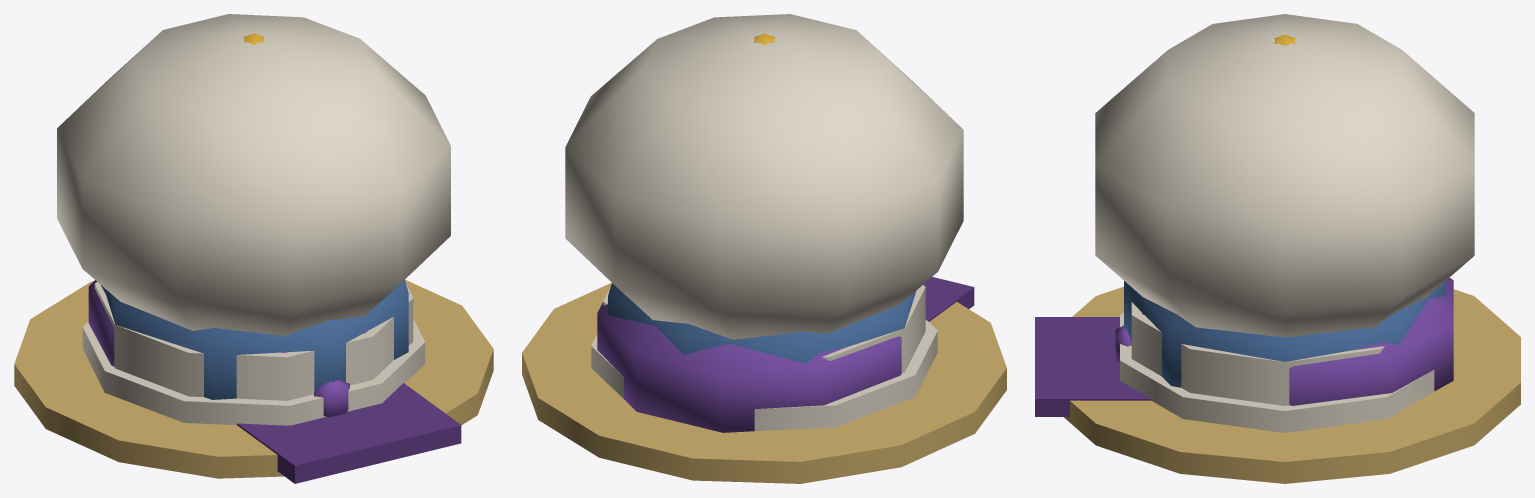
Rendered from hats.glb.
3 views of the same model, side by side, from view 1: azimuth 30°, elevation 25°; view 2: azimuth 150°, elevation 25°; view 3: azimuth 270°, elevation 25° (orthographic).
Visible parts, largest first — view 1: hat_chef, hat_straw, hat_beanie, hat_cap, hat_crown; view 2: hat_chef, hat_straw, hat_cap, hat_beanie; view 3: hat_chef, hat_straw, hat_beanie, hat_cap.
Part boxes in pixels (<box>): hat_chef: <box>57,14,450,400</box>; hat_straw: <box>14,279,493,478</box>; hat_beanie: <box>82,280,425,425</box>; hat_cap: <box>88,280,461,483</box>; hat_crown: <box>314,380,349,417</box>; hat_chef: <box>565,14,963,373</box>; hat_straw: <box>522,282,1006,483</box>; hat_cap: <box>597,277,974,432</box>; hat_beanie: <box>591,283,937,431</box>; hat_chef: <box>1095,14,1474,405</box>; hat_straw: <box>1064,286,1520,483</box>; hat_beanie: <box>1120,281,1445,432</box>; hat_cap: <box>1035,277,1453,416</box>.
Size of the model in its own units: 0.6 by 0.555 by 0.6025.
